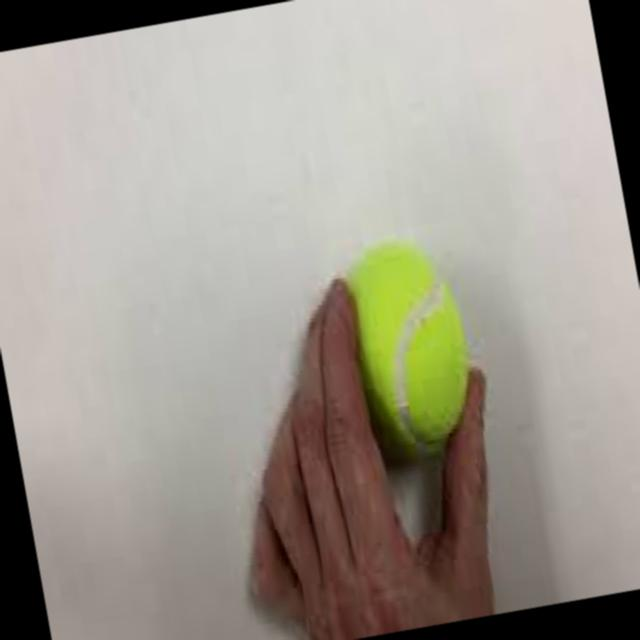tennis-ball: (337, 236, 482, 458)
